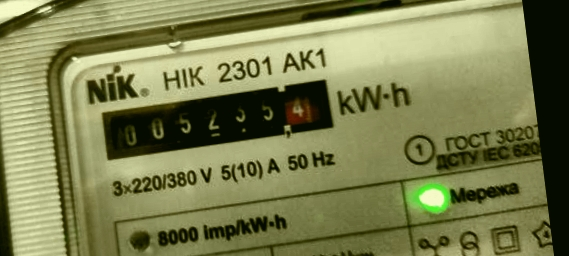0: (120, 120, 138, 146), (148, 114, 166, 140)
2: (202, 103, 221, 131)
3: (228, 97, 248, 124)
4: (286, 89, 307, 120)
5: (256, 92, 275, 122), (175, 108, 192, 134)
screen: (86, 66, 343, 169)
